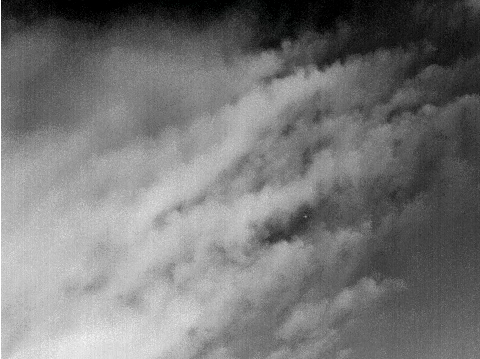dim target: (303, 214, 308, 218)
